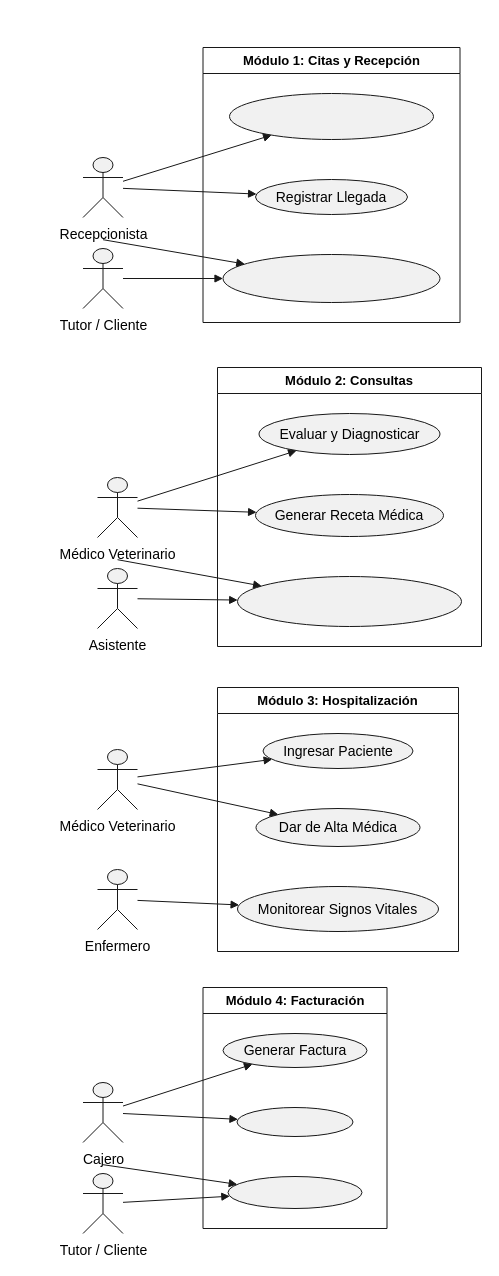
The diagram is 499 pixels wide and 1276 high, and some of its shapes have lost their labels. The centre of each missing label's shape, as x and y in pixels:
"Agendar / Reprogramar Cita" goes at (x=331, y=278).
"Cerrar Caja" goes at (x=294, y=1121).
"Procesar Pago" goes at (x=294, y=1192).
"Realizar Triaje (Peso, Temp)" goes at (x=349, y=601).
"Registrar Tutor y Mascota" goes at (x=331, y=116).
